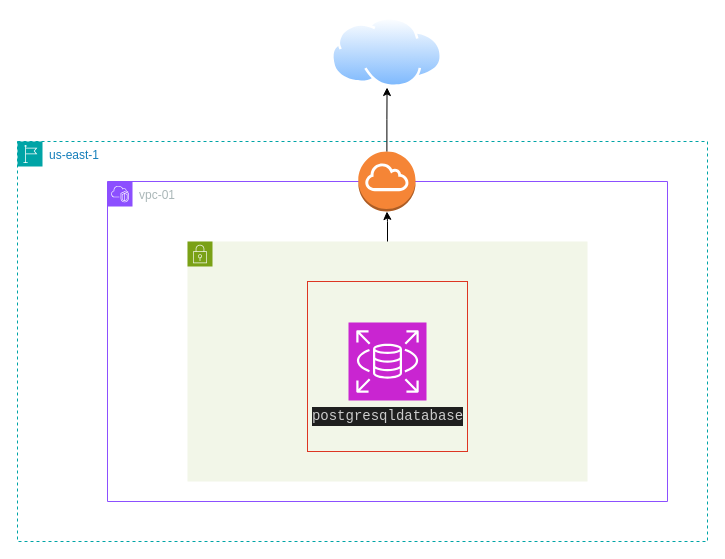
Image size: 725x559. Some labels were removed from this diagram. The box of each missing label's shape, as (x1, y1, x2, y2) in pixels:
Public subnet: (186, 240, 588, 482)
Security group secgrp-01: (306, 280, 468, 452)
